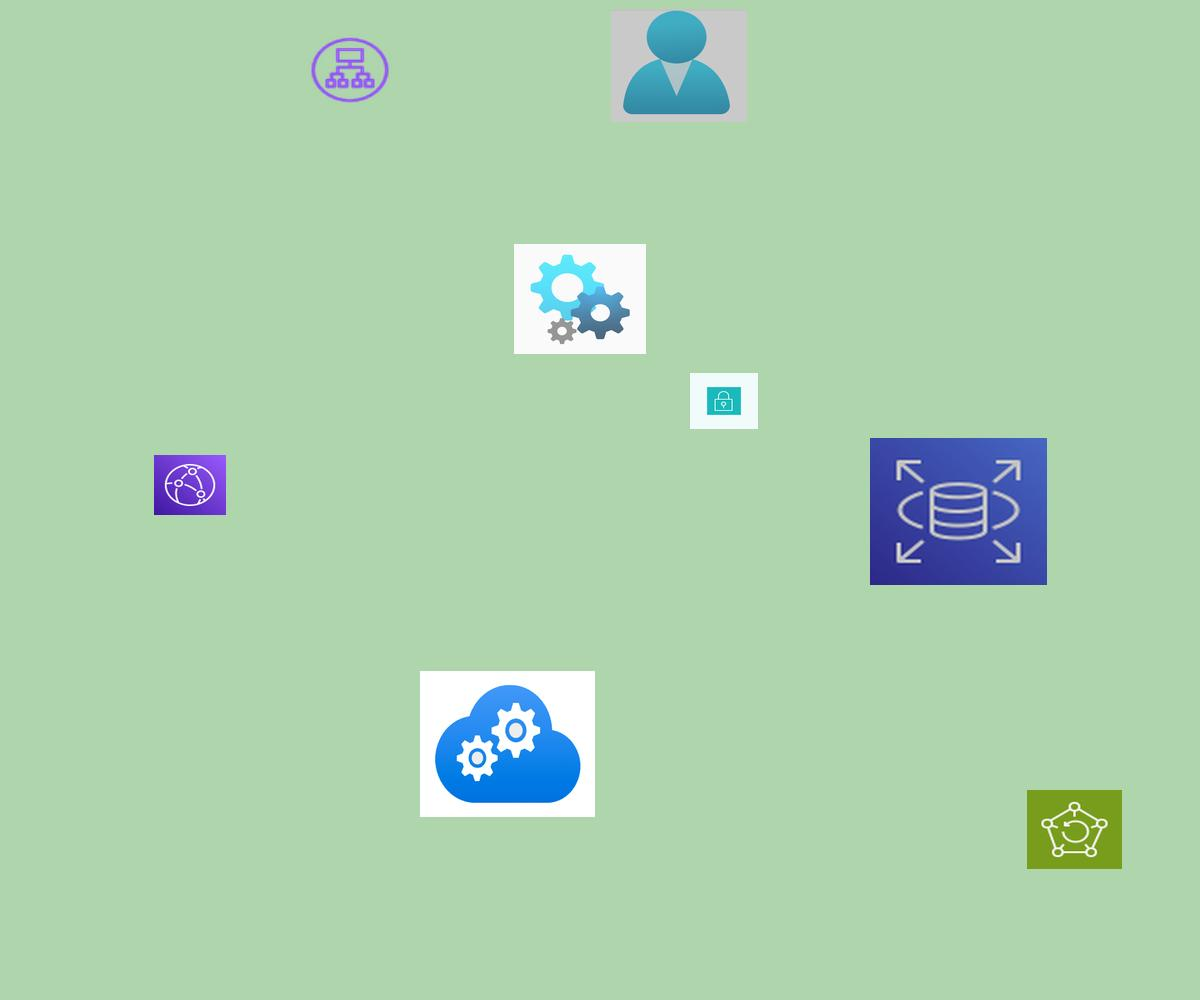AWS-Backup: (1027, 790, 1122, 869)
AWS-CloudFront: (154, 455, 226, 515)
AWS-Private-subnet: (690, 373, 758, 429)
AWS-RDS: (870, 438, 1047, 585)
AWS-Res_Elastic-Load-Balancing_Application-Load-Balancer: (308, 35, 392, 105)
Azure_api: (514, 244, 646, 354)
Azure_cloud_services: (420, 671, 595, 817)
Azure_users: (611, 9, 747, 122)
